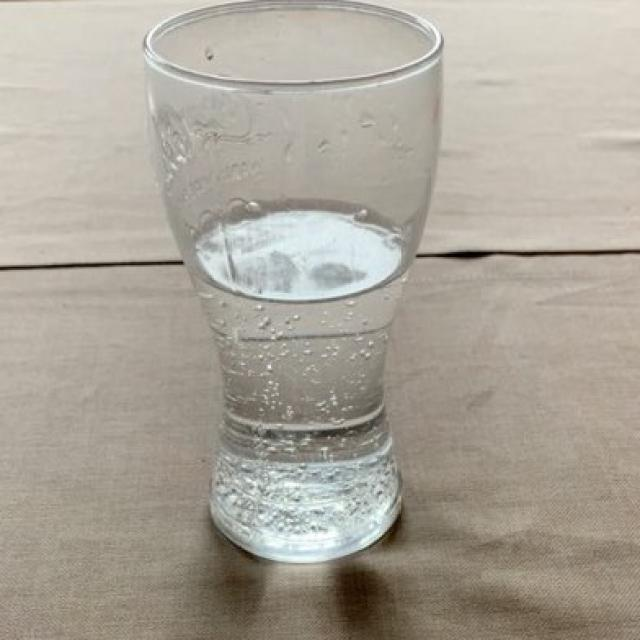water: (187, 209, 411, 516)
